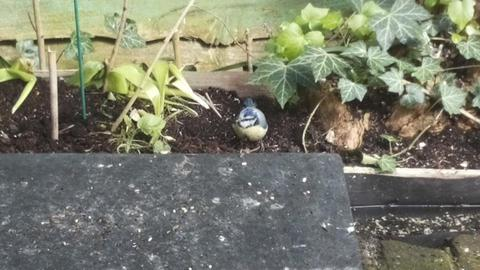blue tit: (232, 98, 268, 153)
